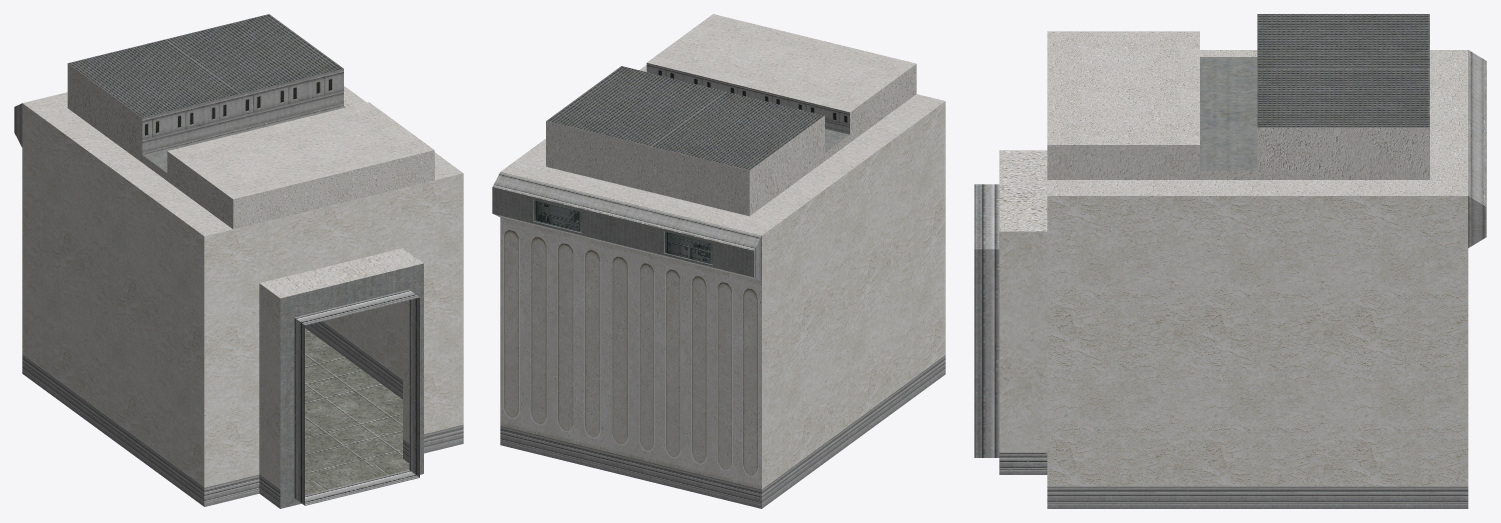
The model's file is ply_corl_house_lg_s02_fp1_r10_room5_mesh_r10.fbx.
3 renders of one model, left to right at view 1: azimuth 30°, elevation 25°; view 2: azimuth 150°, elevation 25°; view 3: azimuth 270°, elevation 25°, orthographic. The views are drawn at different scales.
Parts seen in each view (by area): view 1: mesh_node; view 2: mesh_node; view 3: mesh_node.
Boxes of the visible parts, x1,y1,x2,y2 form: mesh_node: [14, 14, 463, 508]; mesh_node: [492, 14, 945, 508]; mesh_node: [974, 14, 1486, 508].
Bounding box in the file's own units: 4.51 × 5.25 × 6.68.
